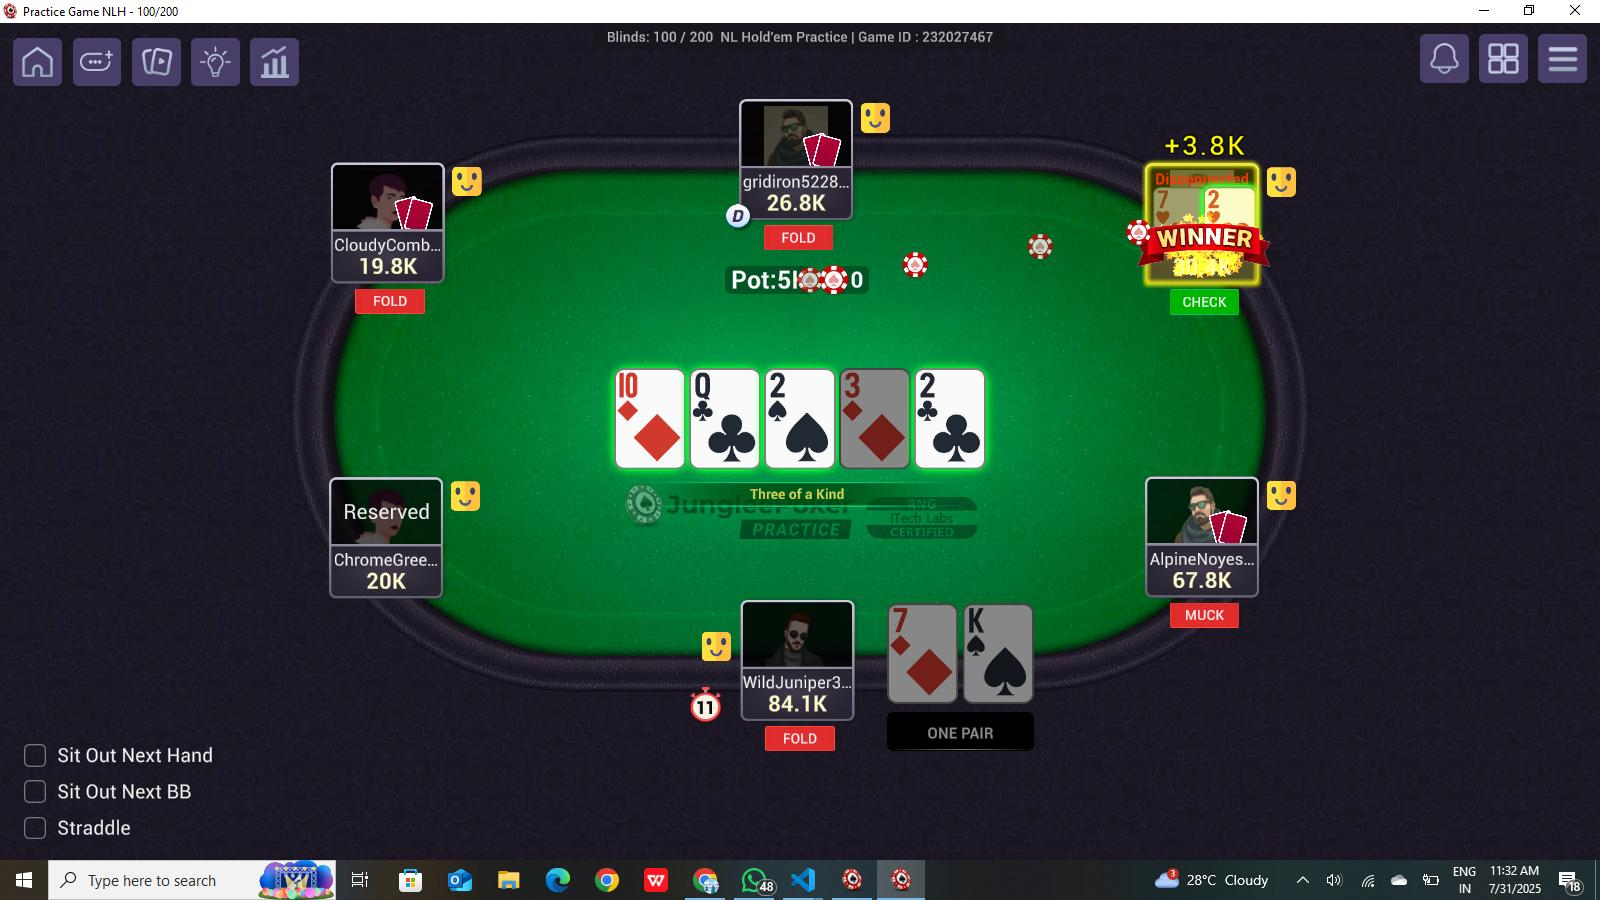card1_rank: (888, 609, 935, 636)
card1_suite_diamond: (902, 642, 957, 703)
card2_rank: (964, 605, 1015, 636)
card2_suite_spades: (978, 636, 1030, 703)
flop1_rank: (616, 368, 674, 403)
flop1_suite_diamond: (625, 409, 684, 468)
flop2_rank: (688, 368, 735, 407)
flop2_suite_club: (700, 410, 758, 468)
flop3_rank: (764, 371, 809, 403)
flop3_suite_spades: (780, 413, 832, 468)
game_id: (854, 23, 1019, 52)
my_stack: (743, 691, 854, 722)
river_rank: (915, 370, 952, 403)
river_suite_club: (926, 410, 984, 467)
turn_rank: (842, 368, 877, 407)
turn_suite_diamond: (855, 410, 910, 468)
villian1_name: (333, 546, 440, 570)
villian1_stack: (354, 571, 420, 597)
villian2_name: (332, 230, 443, 254)
villian2_stack: (352, 254, 429, 280)
villian3_name: (738, 168, 852, 191)
villian3_stack: (757, 193, 830, 216)
villian5_name: (1145, 543, 1255, 567)
villian5_stack: (1162, 570, 1243, 597), (1191, 558, 1193, 560)
winner: (1148, 167, 1260, 285)
